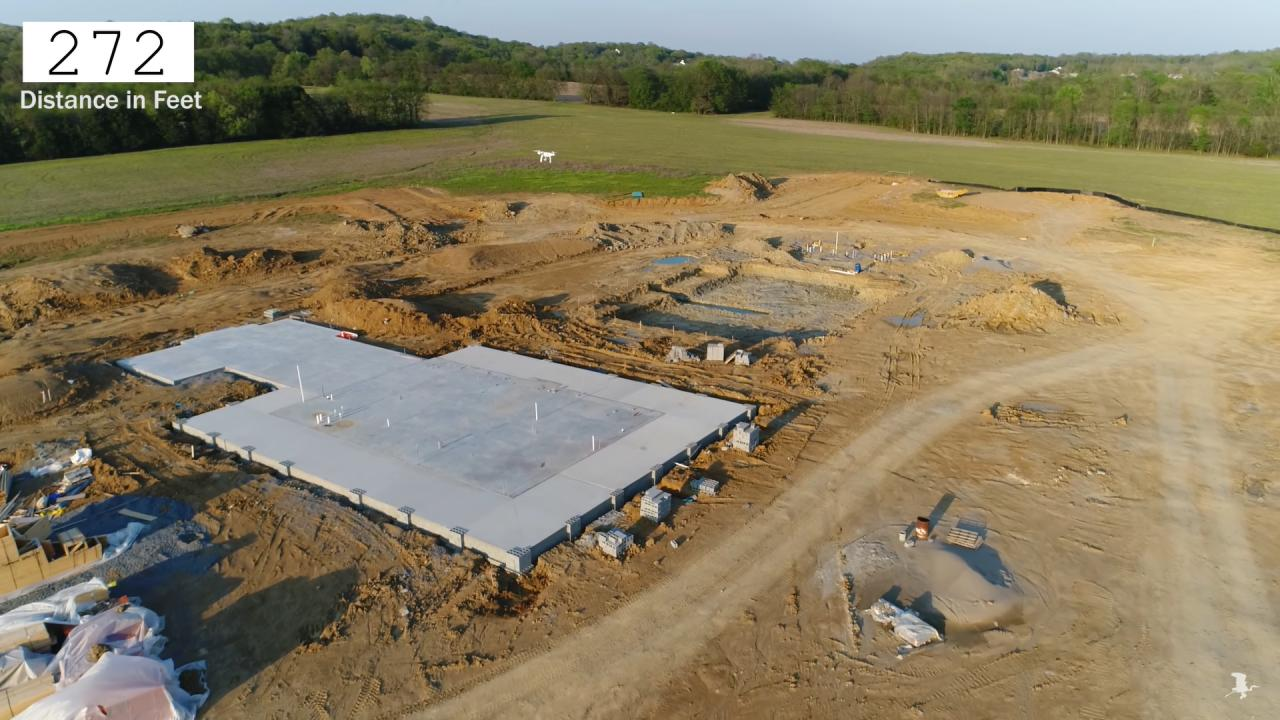Drone: (526, 142, 564, 172)
